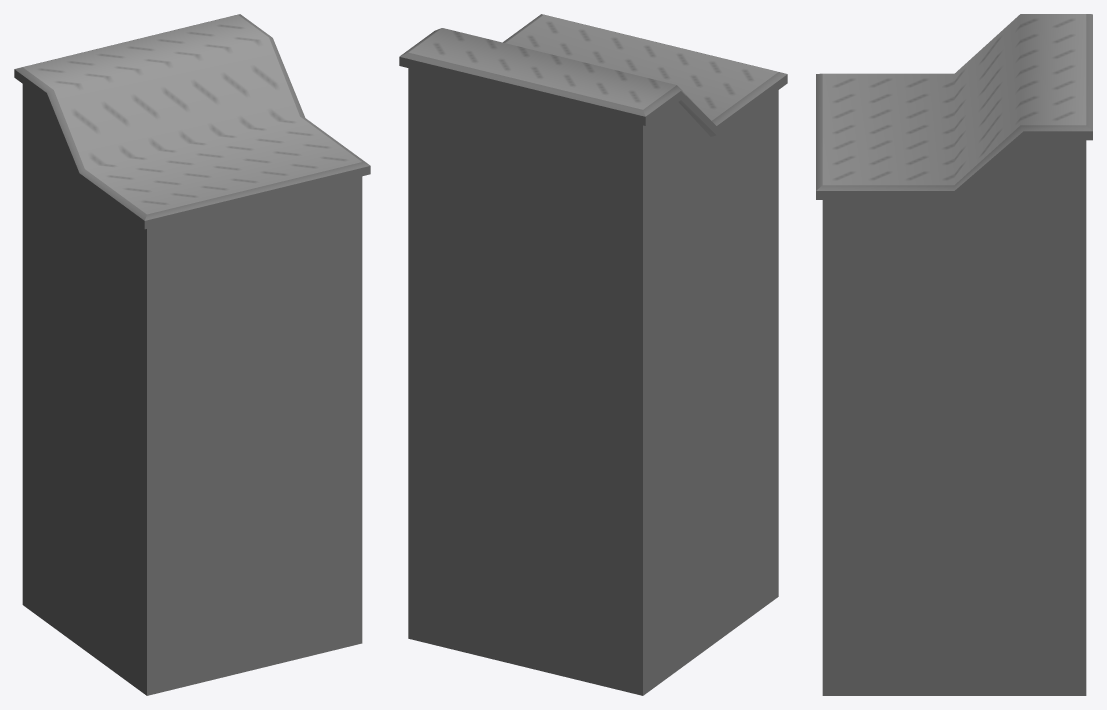
File: Stone 1 R 1.fbx
3 views of the same model, side by side, from view 1: azimuth 30°, elevation 25°; view 2: azimuth 150°, elevation 25°; view 3: azimuth 270°, elevation 25° (orthographic). The views are drawn at different scales.
Visible parts, largest first — view 1: Stone_1_R__1; view 2: Stone_1_R__1; view 3: Stone_1_R__1.
Part boxes in pixels (x1,y1,x2,y2): Stone_1_R__1: (14,14,370,695); Stone_1_R__1: (399,14,787,695); Stone_1_R__1: (816,14,1092,695).
Bounding box in the file's own units: 4.2 × 9.55 × 4.2.
